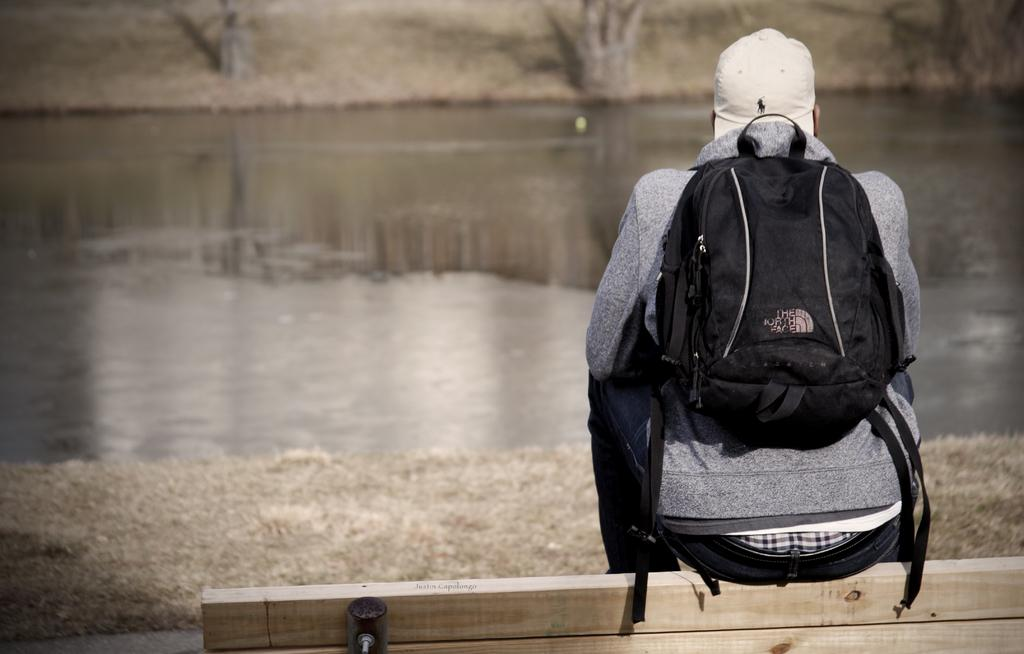Hat: (710, 22, 814, 137)
